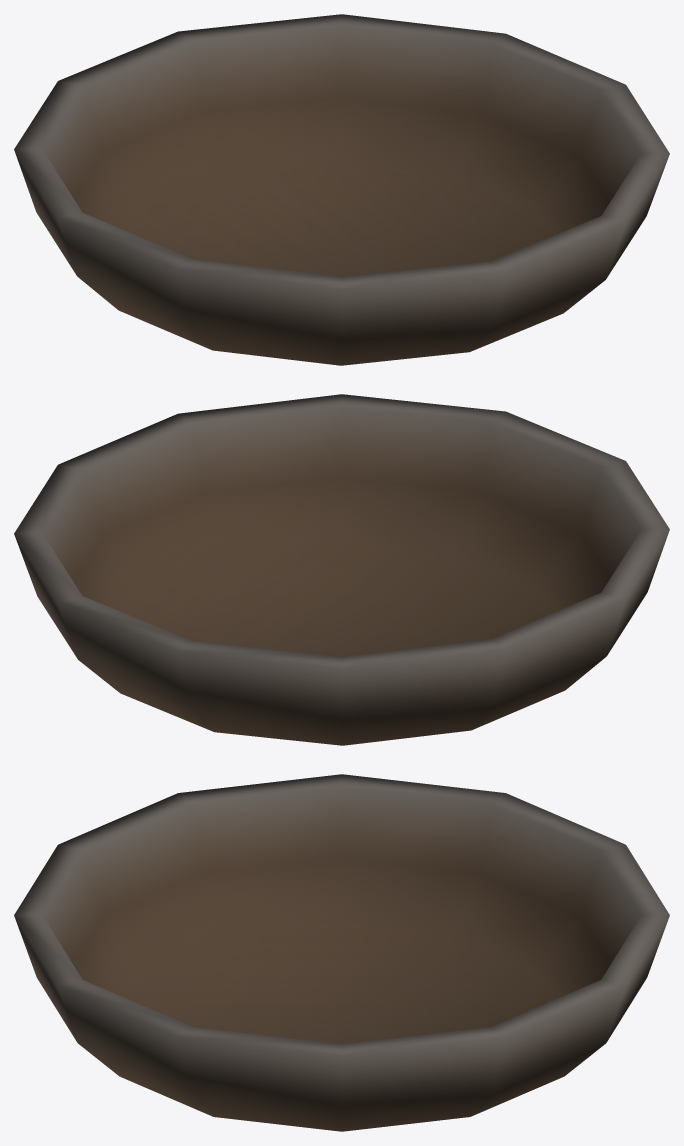
Rendered from frying_pan_without_bar.fbx.
3 renders of one model, top to bottom at view 1: azimuth 30°, elevation 25°; view 2: azimuth 150°, elevation 25°; view 3: azimuth 270°, elevation 25°, orthographic.
Parts seen in each view (by area): view 1: Cylinder.001; view 2: Cylinder.001; view 3: Cylinder.001.
Boxes of the visible parts, x1=… form: Cylinder.001: x1=14, y1=14, x2=669, y2=365; Cylinder.001: x1=14, y1=394, x2=669, y2=745; Cylinder.001: x1=14, y1=774, x2=669, y2=1131.
Bounding box in the file's own units: 255 × 54.22 × 255.
